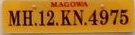character: (8, 9, 21, 26), (21, 9, 33, 26), (59, 8, 71, 25), (72, 8, 83, 26), (88, 9, 98, 25), (99, 8, 108, 25), (109, 8, 118, 25), (119, 8, 128, 25), (45, 9, 54, 25), (38, 9, 45, 26)
